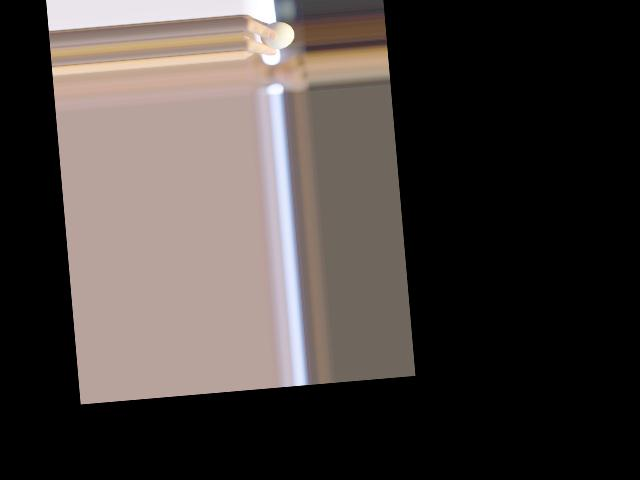egg: (258, 21, 295, 51)
